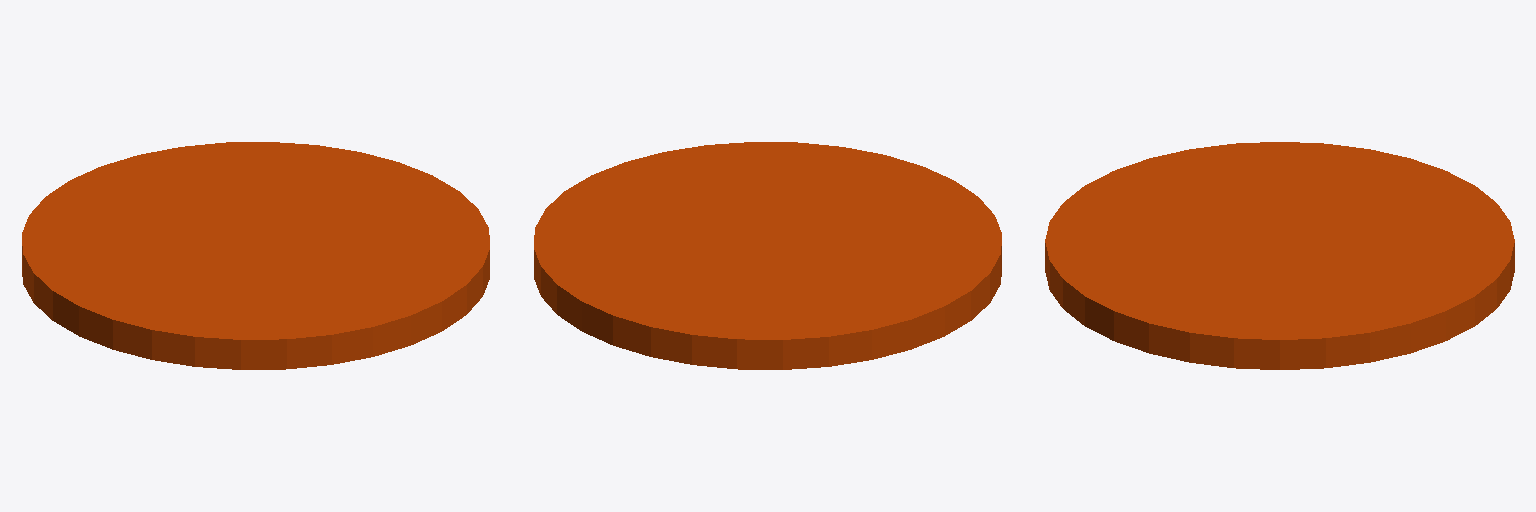
File: coin.obj
3 views of the same model, side by side, from view 1: azimuth 30°, elevation 25°; view 2: azimuth 150°, elevation 25°; view 3: azimuth 270°, elevation 25° (orthographic).
Parts seen in each view (by area): view 1: Cylinder; view 2: Cylinder; view 3: Cylinder.
Boxes of the visible parts, x1,y1,x2,y2 form: Cylinder: [22, 142, 489, 369]; Cylinder: [534, 142, 1001, 369]; Cylinder: [1045, 142, 1514, 369].
Size of the model in its own units: 2 by 0.1414 by 2.